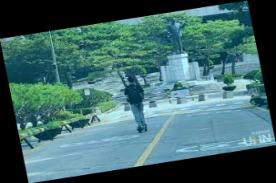nonhelmet: (117, 73, 153, 135)
